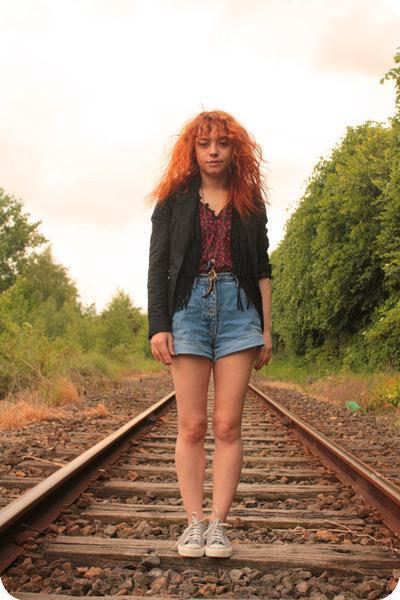jacket: (147, 185, 272, 339)
shirt: (199, 204, 228, 279)
shoe: (175, 523, 231, 556)
shorts: (172, 270, 263, 366)
